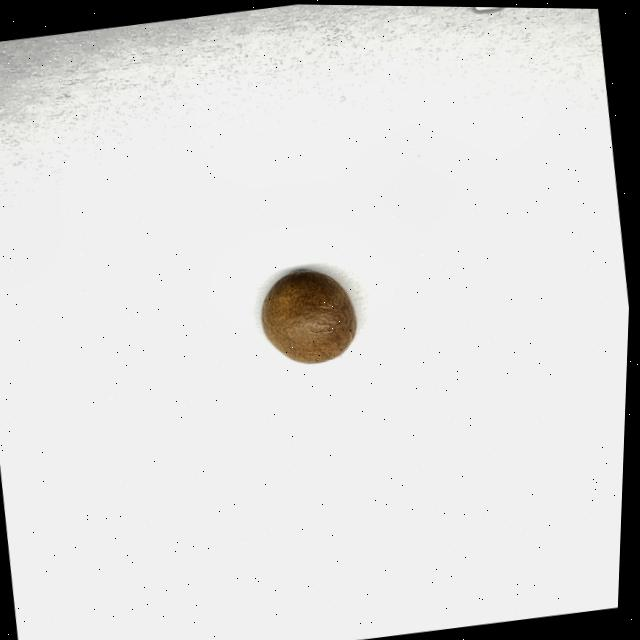Good bean: (257, 263, 364, 370)
